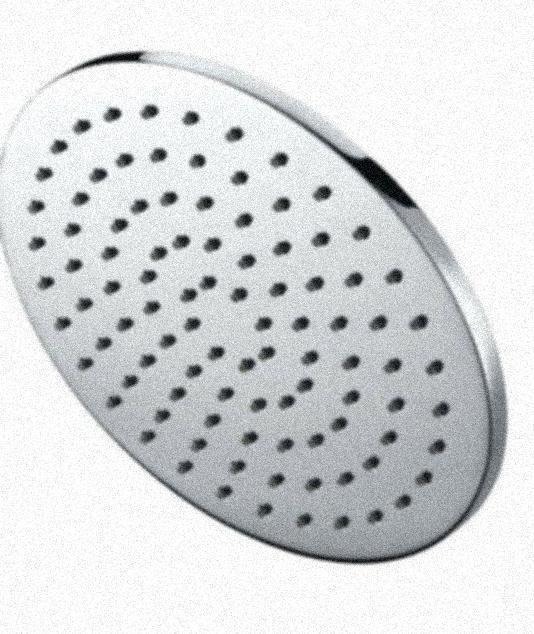Ducha: (0, 11, 533, 573)
